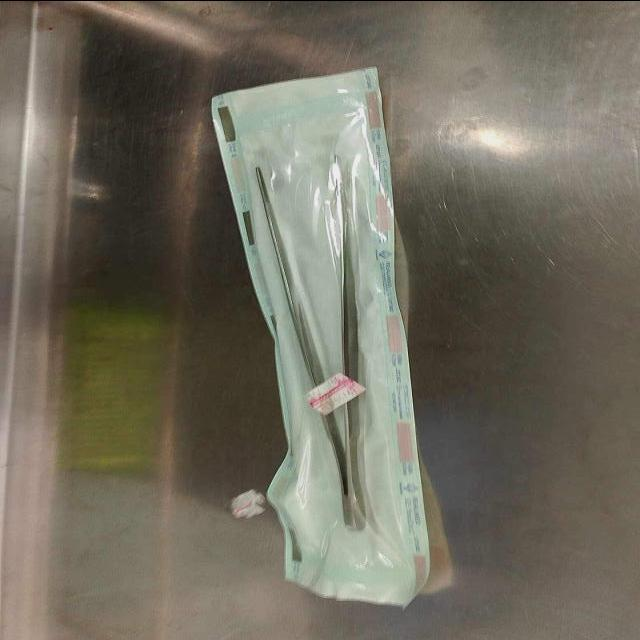General: (208, 64, 432, 611)
Sharps: (252, 164, 360, 529), (321, 152, 366, 531)
